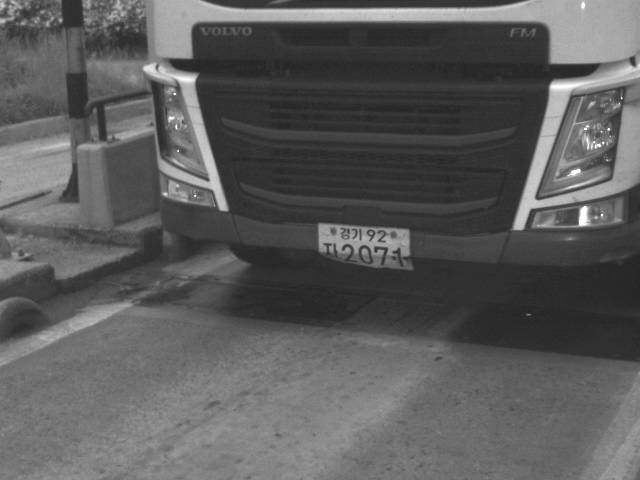car: (143, 1, 640, 276)
plate: (315, 221, 412, 272)
